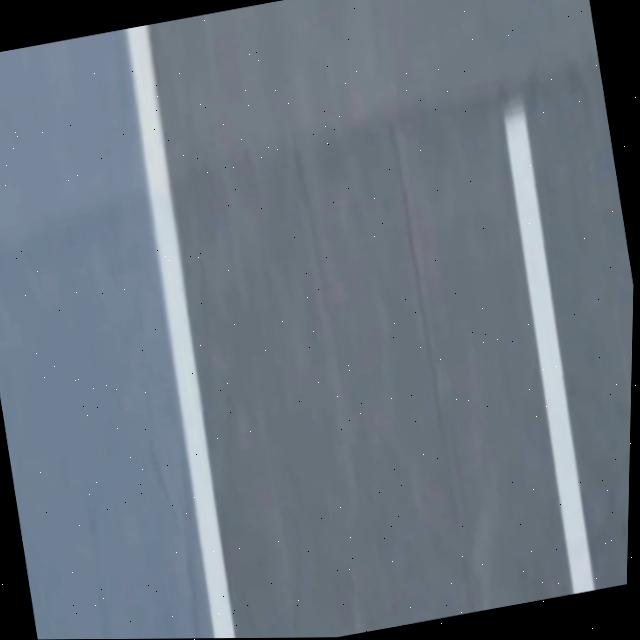center: (503, 98, 594, 594)
left: (125, 24, 235, 638)
